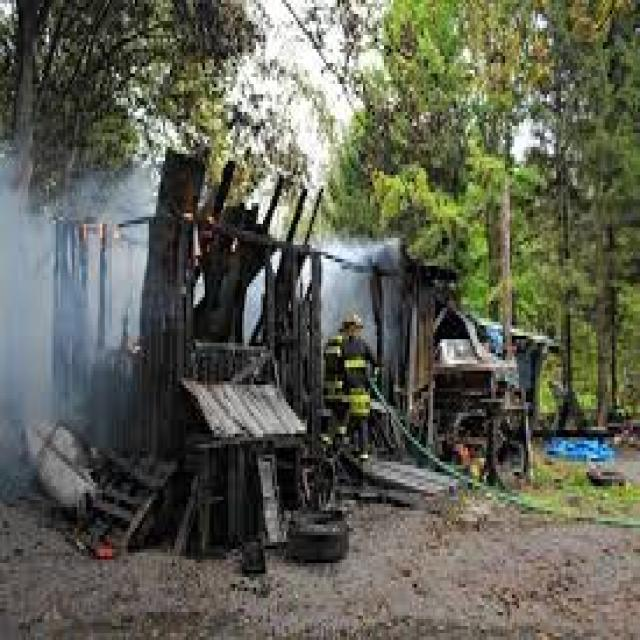Smoke: (0, 154, 114, 451), (324, 238, 402, 316)
